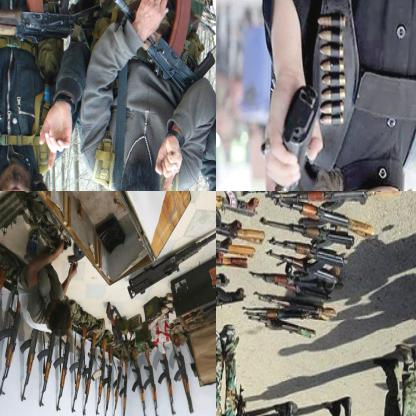pistol: (228, 81, 319, 190)
rifle: (109, 0, 215, 114), (125, 196, 215, 303), (279, 198, 375, 250), (0, 0, 100, 47), (260, 214, 356, 251), (241, 284, 335, 321), (266, 246, 342, 289), (244, 267, 330, 303), (269, 232, 348, 270), (216, 199, 266, 248), (0, 296, 22, 398), (247, 314, 317, 342), (52, 318, 72, 412), (107, 300, 134, 366), (68, 327, 88, 415), (270, 191, 401, 204), (170, 346, 194, 414), (78, 332, 97, 415), (155, 347, 177, 415), (35, 330, 54, 408), (18, 331, 38, 405), (139, 346, 160, 415), (128, 346, 148, 415), (216, 225, 255, 260), (90, 336, 106, 415), (98, 344, 115, 415), (216, 191, 257, 217), (216, 285, 245, 318), (216, 240, 247, 270), (107, 352, 121, 415), (117, 357, 128, 415), (234, 384, 247, 415)
